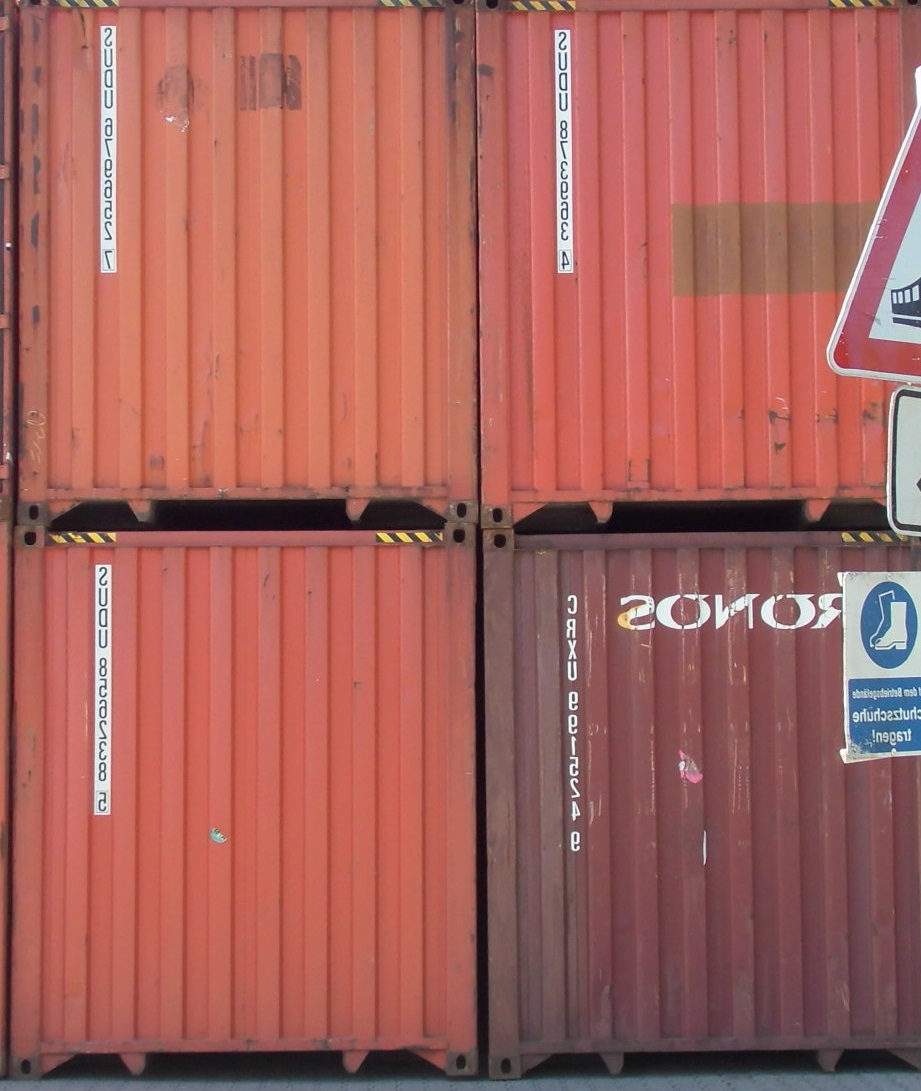container_no_door: (10, 530, 477, 1074), (21, 1, 471, 527), (487, 533, 921, 1074), (480, 1, 920, 533)
